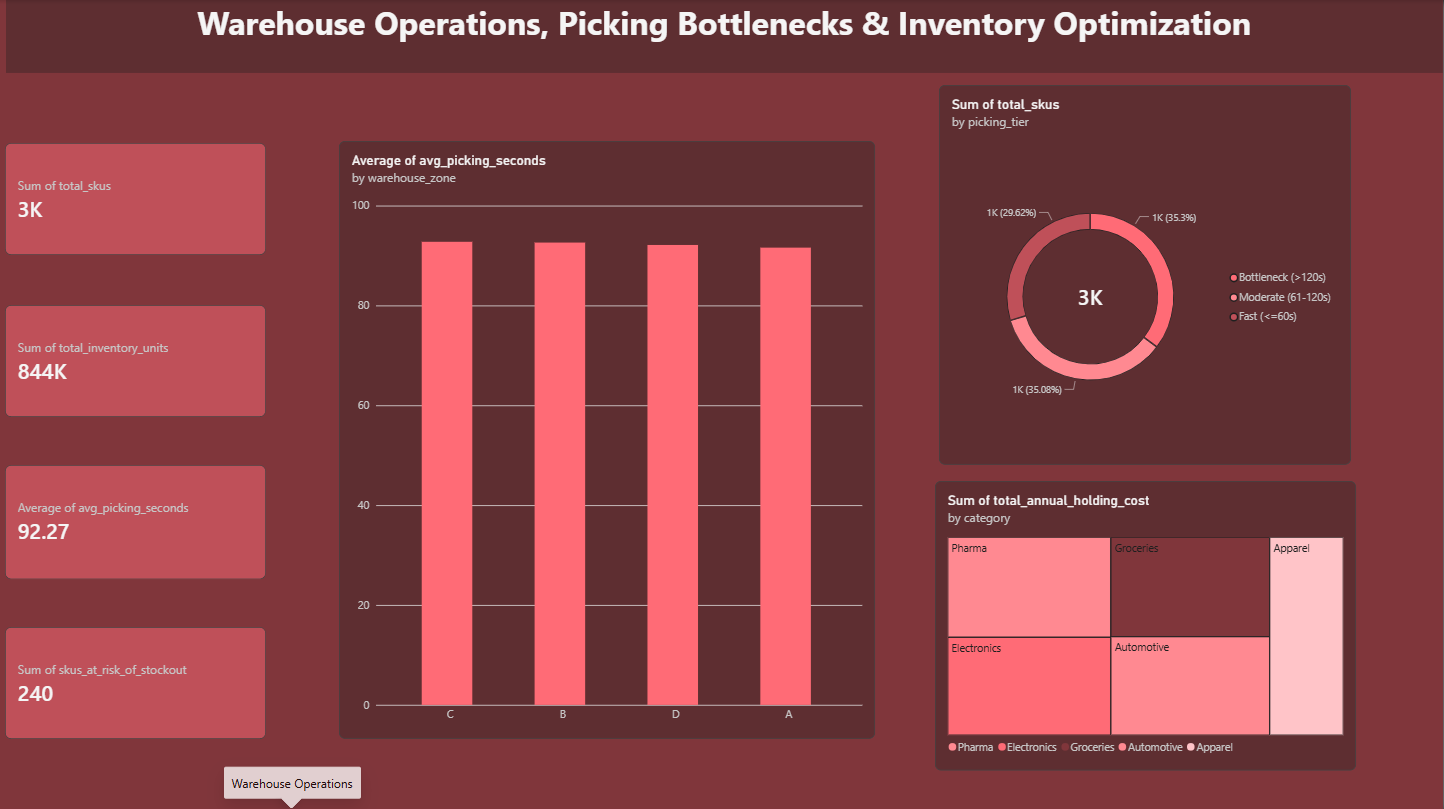

This screenshot's page, from the dashboard's own definition file:
{"tool":"powerbi","page":{"name":"Warehouse Operations","canvas":[1920,1080],"ordinal":1},"visuals":[{"type":"textbox","box":[9.4,0,1910.6,96.7],"z":0},{"type":"cardVisual","fields":{"Data":["Sum(gold_warehouse_zone_efficiency.total_skus)"]},"box":[8.6,189.7,347.8,149.5],"z":1000},{"type":"cardVisual","fields":{"Data":["Sum(gold_warehouse_zone_efficiency.total_inventory_units)"]},"box":[8.6,405.3,347.8,149.5],"z":2000},{"type":"cardVisual","fields":{"Data":["Avg(gold_warehouse_zone_efficiency.avg_picking_seconds)"]},"box":[8.6,618,347.8,152.3],"z":3000},{"type":"cardVisual","fields":{"Data":["Sum(gold_warehouse_zone_efficiency.skus_at_risk_of_stockout)"]},"box":[8.6,833.5,347.8,149.5],"z":4000},{"type":"clusteredColumnChart","fields":{"Category":["gold_warehouse_zone_efficiency.warehouse_zone"],"Y":["Avg(gold_warehouse_zone_efficiency.avg_picking_seconds)"]},"box":[452.5,187.5,712.5,795],"z":5000},{"type":"donutChart","fields":{"Category":["gold_warehouse_zone_efficiency.picking_tier"],"Y":["Sum(gold_warehouse_zone_efficiency.total_skus)"]},"box":[1250,112.5,547.5,505],"z":6000},{"type":"treemap","fields":{"Group":["gold_warehouse_zone_efficiency.category"],"Values":["Sum(gold_warehouse_zone_efficiency.total_annual_holding_cost)"]},"box":[1244.3,640,560,385],"z":7000}]}

Visuals, with their boxes in screenshot pixels (x1, y1, x2, y2), scaled from the page's 1920x1080 canvas onto the 1444x809 screenshot:
textbox: left=7, top=0, right=1443, bottom=72
cardVisual - Sum(gold_warehouse_zone_efficiency.total_skus): left=6, top=142, right=268, bottom=254
cardVisual - Sum(gold_warehouse_zone_efficiency.total_inventory_units): left=6, top=304, right=268, bottom=416
cardVisual - Avg(gold_warehouse_zone_efficiency.avg_picking_seconds): left=6, top=463, right=268, bottom=577
cardVisual - Sum(gold_warehouse_zone_efficiency.skus_at_risk_of_stockout): left=6, top=624, right=268, bottom=736
clusteredColumnChart - gold_warehouse_zone_efficiency.warehouse_zone x Avg(gold_warehouse_zone_efficiency.avg_picking_seconds): left=340, top=140, right=876, bottom=736
donutChart - gold_warehouse_zone_efficiency.picking_tier x Sum(gold_warehouse_zone_efficiency.total_skus): left=940, top=84, right=1352, bottom=463
treemap - gold_warehouse_zone_efficiency.category x Sum(gold_warehouse_zone_efficiency.total_annual_holding_cost): left=936, top=479, right=1357, bottom=768
